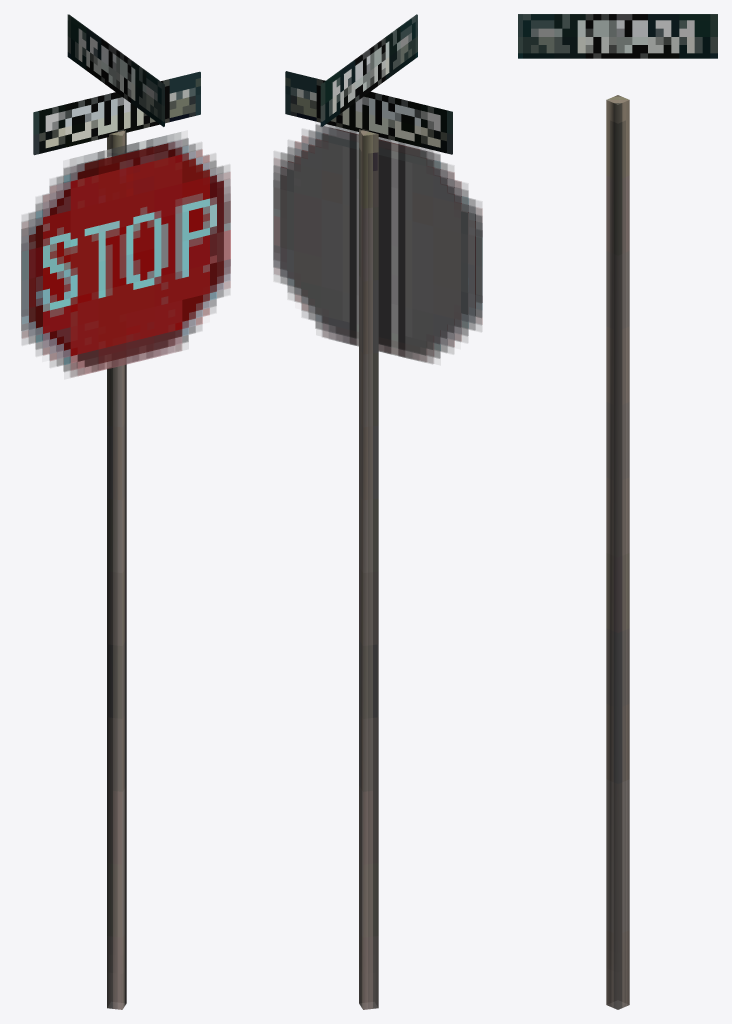
The model's file is USA - Prop - Stop Sgn - PAStopSgn.glb.
The picture shows the model from 3 angles, left to right: view 1: azimuth 30°, elevation 25°; view 2: azimuth 150°, elevation 25°; view 3: azimuth 270°, elevation 25°; orthographic projection. The views are drawn at different scales.
Visible parts, largest first — view 1: PASTOPSGN; view 2: PASTOPSGN; view 3: PASTOPSGN.
Part boxes in pixels (x1=…): PASTOPSGN: x1=21, y1=14, x2=230, y2=1009; PASTOPSGN: x1=273, y1=14, x2=482, y2=1009; PASTOPSGN: x1=518, y1=14, x2=717, y2=1009.
Size of the model in its own units: 5.32 by 21.82 by 3.99.
1 material, 1 textured.
